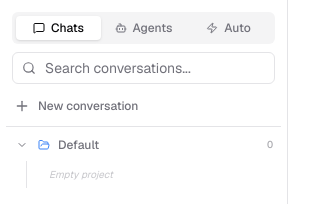
it: AppSidebar › switches to Agents tab and shows agents content
The width and height of the screenshot is (320, 223).
What coordinates should you click on to do the following:
click the tab "Agents"
I would click on:
 (144, 28)
Its box is [101,16,186,40].
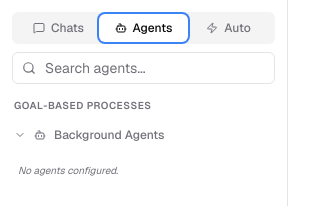
Expected: the text "Background Agents" is shown, [54,127,165,143]
